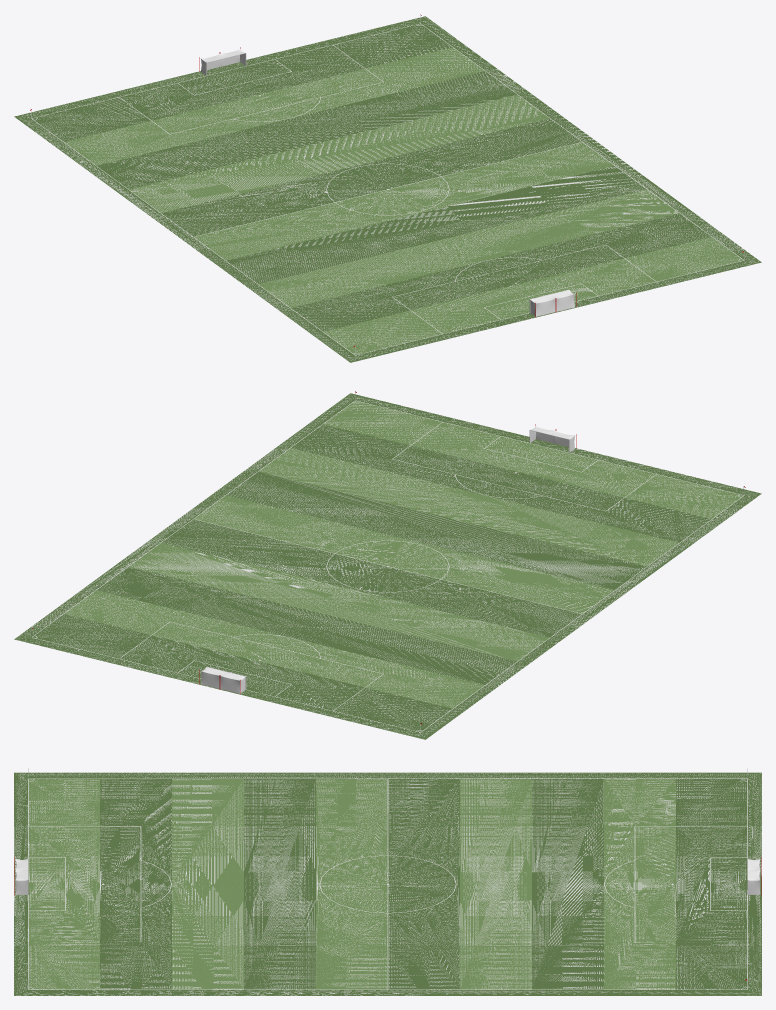
File: pitch.dae
3 views of the same model, one above another, from view 1: azimuth 30°, elevation 25°; view 2: azimuth 150°, elevation 25°; view 3: azimuth 270°, elevation 25° (orthographic). The views are drawn at different scales.
Visible parts, largest first — view 1: group_2 (×26), group_1, group_3; view 2: group_2 (×26), group_3, group_1; view 3: group_2 (×26), group_1, group_3.
Boxes of the visible parts, left/top/right/bottom form: group_2 (×26): left=14, top=16, right=761, bottom=362; group_1: left=530, top=290, right=574, bottom=316; group_3: left=201, top=49, right=245, bottom=74; group_2 (×26): left=14, top=393, right=761, bottom=739; group_3: left=201, top=667, right=245, bottom=693; group_1: left=530, top=426, right=574, bottom=451; group_2 (×26): left=14, top=772, right=761, bottom=995; group_1: left=15, top=859, right=27, bottom=894; group_3: left=748, top=859, right=760, bottom=894.
Size of the model in its own units: 3047 by 4315 by 104.
9 materials, 4 textured.
